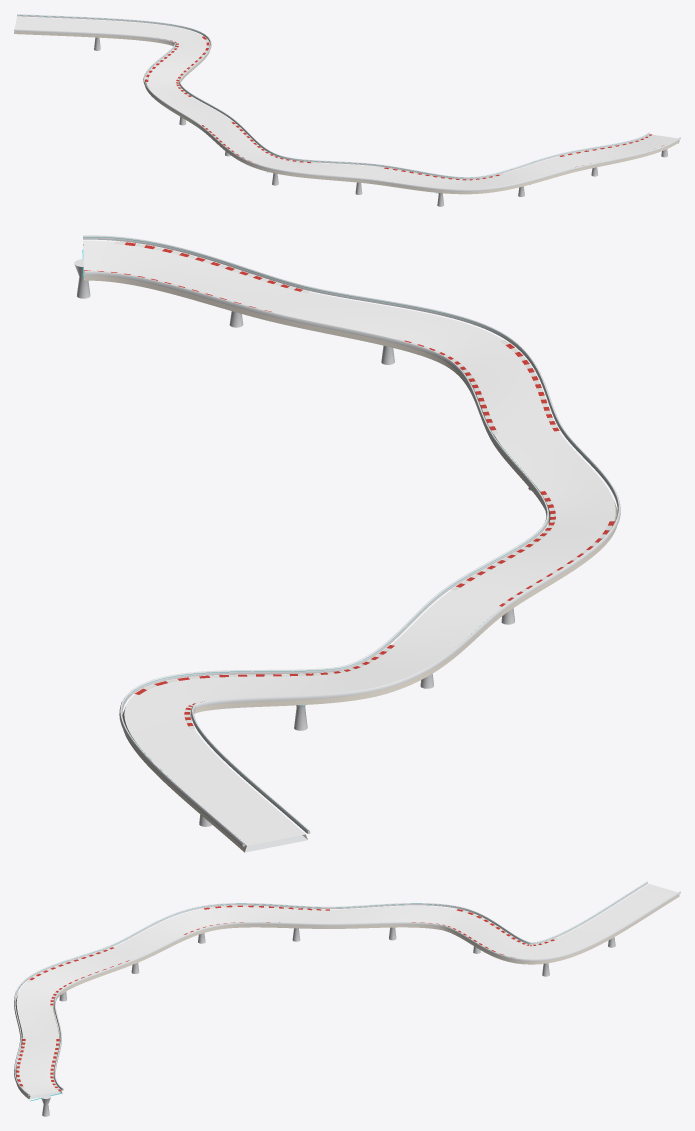
File: SM_FutureCity_Track_08.fbx
3 renders of one model, top to bottom at view 1: azimuth 30°, elevation 25°; view 2: azimuth 150°, elevation 25°; view 3: azimuth 270°, elevation 25°, orthographic. The views are drawn at different scales.
Visible parts, largest first — view 1: SM_FutureCity_Track_08; view 2: SM_FutureCity_Track_08; view 3: SM_FutureCity_Track_08.
Boxes of the visible parts, <box> form: SM_FutureCity_Track_08: <box>14,14,680,206</box>; SM_FutureCity_Track_08: <box>74,235,620,852</box>; SM_FutureCity_Track_08: <box>14,881,680,1116</box>.
Size of the model in its own units: 20872 by 1291 by 27627.
